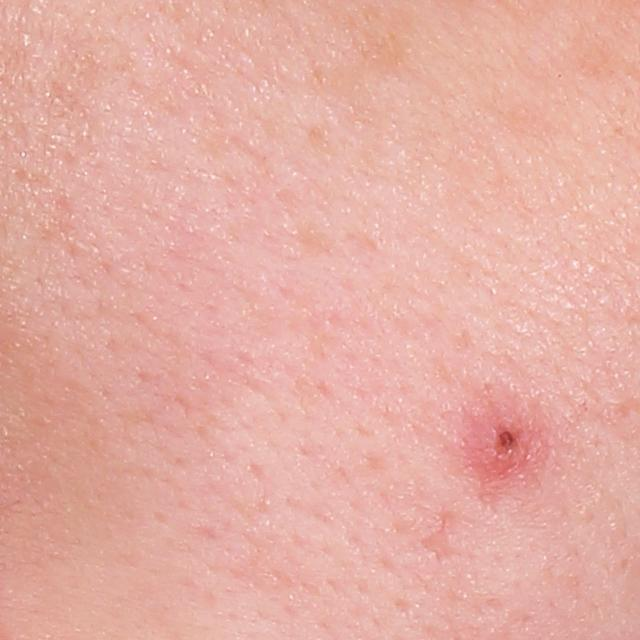atrophic_scar: (420, 511, 454, 567)
melasma: (301, 2, 415, 97)
papule: (461, 399, 540, 490)
